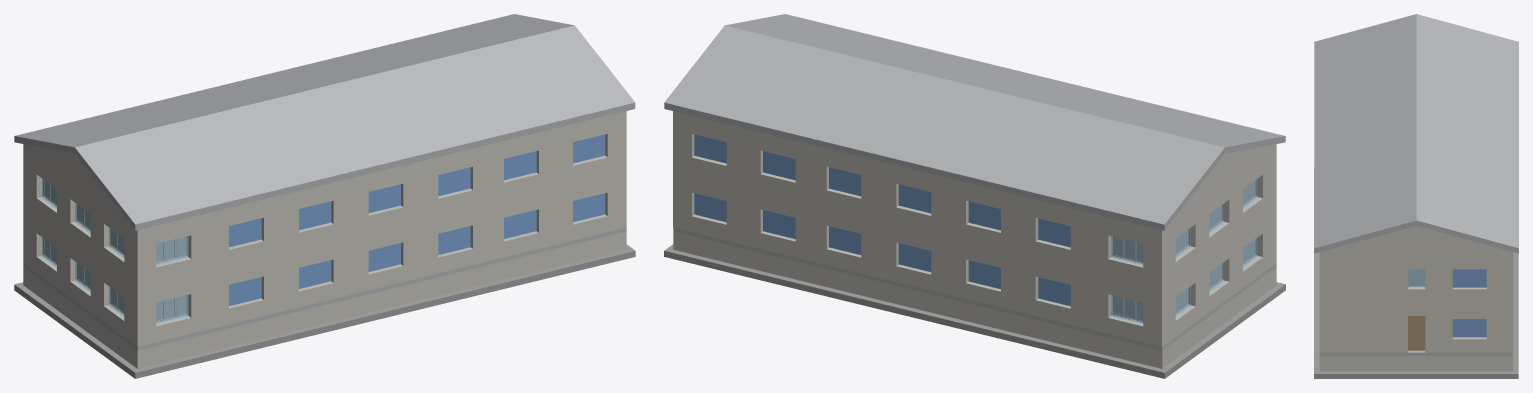
The model's file is bureaux-agence.glb.
The picture shows the model from 3 angles, left to right: view 1: azimuth 30°, elevation 25°; view 2: azimuth 150°, elevation 25°; view 3: azimuth 270°, elevation 25°; orthographic projection. The views are drawn at different scales.
Parts seen in each view (by area): view 1: 0aXPNDdDP4uQV59UAQ8Nzm, 1aoGLNxQz4p9Euk5iIHSG8, 1aoGLNxQz4p9Euk5iIHSHT, 0aXPNDdDP4uQV59UEQ8Nzm, 0cVCziTRz4Qv3WQE3H4JwI, 0cVCziTRz4Qv3WQE3H4JuA, 0aXPNDdDP4uQV59U6Q8NYQ, 0cVCziTRz4Qv3WQE3H4Jx8, 0cVCziTRz4Qv3WQE3H4JuT, 12H7KoFbH5fgC7c$oPAU9W, 12H7KoFbH5fgC7c$oPAT3J, 1aoGLNxQz4p9Euk5iIHS9v (+11 smaller); view 2: 0aXPNDdDP4uQV59UEQ8Nzm, 1aoGLNxQz4p9Euk5iIHSMS, 1aoGLNxQz4p9Euk5iIHSHT, 0aXPNDdDP4uQV59UAQ8Nzm, 0cVCziTRz4Qv3WQE3H4Jrt, 0cVCziTRz4Qv3WQE3H4Ju3, 0aXPNDdDP4uQV59U6Q8NYQ, 0cVCziTRz4Qv3WQE3H4Jx8, 0cVCziTRz4Qv3WQE3H4JuT, 0cVCziTRz4Qv3WQE3H4K_g, 1aoGLNxQz4p9Euk5iIHS9D, 12H7KoFbH5fgC7c$oPAT31 (+12 smaller); view 3: 0aXPNDdDP4uQV59UEQ8Nzm, 0aXPNDdDP4uQV59UAQ8Nzm, 1aoGLNxQz4p9Euk5iIHSNr, 0cVCziTRz4Qv3WQE3H4JrQ, 0cVCziTRz4Qv3WQE3H4Juu, 0aXPNDdDP4uQV59U6Q8NYQ, 0cVCziTRz4Qv3WQE3H4JuA, 0cVCziTRz4Qv3WQE3H4Ju3, 0cVCziTRz4Qv3WQE3H4K_m, 1aoGLNxQz4p9Euk5iIHS9q, 0aXPNDdDP4uQV59U6Q8N$z, 1aoGLNxQz4p9Euk5iIHSG8 (+1 smaller).
Boxes of the visible parts, left/top/right/bottom form: 0aXPNDdDP4uQV59UAQ8Nzm: left=75, top=25, right=635, bottom=230; 1aoGLNxQz4p9Euk5iIHSG8: left=142, top=111, right=626, bottom=345; 1aoGLNxQz4p9Euk5iIHSHT: left=23, top=144, right=141, bottom=346; 0aXPNDdDP4uQV59UEQ8Nzm: left=14, top=14, right=573, bottom=153; 0cVCziTRz4Qv3WQE3H4JwI: left=134, top=233, right=620, bottom=368; 0cVCziTRz4Qv3WQE3H4JuA: left=125, top=252, right=618, bottom=378; 0aXPNDdDP4uQV59U6Q8NYQ: left=23, top=227, right=626, bottom=350; 0cVCziTRz4Qv3WQE3H4Jx8: left=26, top=270, right=134, bottom=365; 0cVCziTRz4Qv3WQE3H4JuT: left=24, top=290, right=130, bottom=371; 12H7KoFbH5fgC7c$oPAU9W: left=156, top=295, right=188, bottom=323; 12H7KoFbH5fgC7c$oPAT3J: left=156, top=236, right=188, bottom=265; 1aoGLNxQz4p9Euk5iIHS9v: left=368, top=243, right=400, bottom=271; 0aXPNDdDP4uQV59UEQ8Nzm: left=664, top=25, right=1224, bottom=230; 1aoGLNxQz4p9Euk5iIHSMS: left=677, top=112, right=1157, bottom=345; 1aoGLNxQz4p9Euk5iIHSHT: left=1158, top=144, right=1276, bottom=346; 0aXPNDdDP4uQV59UAQ8Nzm: left=725, top=14, right=1285, bottom=153; 0cVCziTRz4Qv3WQE3H4Jrt: left=673, top=231, right=1165, bottom=368; 0cVCziTRz4Qv3WQE3H4Ju3: left=681, top=252, right=1174, bottom=378; 0aXPNDdDP4uQV59U6Q8NYQ: left=673, top=227, right=1276, bottom=350; 0cVCziTRz4Qv3WQE3H4Jx8: left=1165, top=270, right=1273, bottom=365; 0cVCziTRz4Qv3WQE3H4JuT: left=1169, top=290, right=1275, bottom=371; 0cVCziTRz4Qv3WQE3H4K_g: left=898, top=184, right=931, bottom=213; 1aoGLNxQz4p9Euk5iIHS9D: left=898, top=243, right=931, bottom=271; 12H7KoFbH5fgC7c$oPAT31: left=1111, top=236, right=1143, bottom=265; 0aXPNDdDP4uQV59UEQ8Nzm: left=1416, top=14, right=1518, bottom=253; 0aXPNDdDP4uQV59UAQ8Nzm: left=1314, top=14, right=1416, bottom=253; 1aoGLNxQz4p9Euk5iIHSNr: left=1324, top=226, right=1513, bottom=352; 0cVCziTRz4Qv3WQE3H4JrQ: left=1319, top=356, right=1507, bottom=371; 0cVCziTRz4Qv3WQE3H4Juu: left=1314, top=366, right=1518, bottom=378; 0aXPNDdDP4uQV59U6Q8NYQ: left=1319, top=350, right=1512, bottom=355; 0cVCziTRz4Qv3WQE3H4JuA: left=1314, top=167, right=1319, bottom=366; 0cVCziTRz4Qv3WQE3H4Ju3: left=1513, top=252, right=1518, bottom=366; 0cVCziTRz4Qv3WQE3H4K_m: left=1452, top=269, right=1486, bottom=287; 1aoGLNxQz4p9Euk5iIHS9q: left=1452, top=319, right=1486, bottom=337; 0aXPNDdDP4uQV59U6Q8N$z: left=1408, top=316, right=1425, bottom=350; 1aoGLNxQz4p9Euk5iIHSG8: left=1319, top=251, right=1323, bottom=352.
Size of the model in its own units: 25.84 by 9.24 by 10.83.
